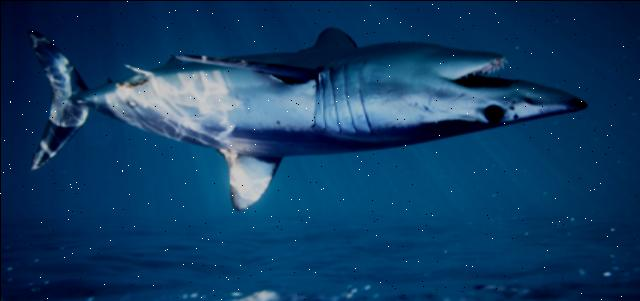Mulut: (432, 34, 542, 106)
Sirip Anal: (96, 72, 115, 89)
Sirip Dada: (168, 38, 328, 94), (290, 16, 366, 64)
Sirip Ekor: (15, 23, 84, 175)
Sirip Perut: (115, 48, 185, 80)
Sirip Punggung: (204, 139, 296, 219)
